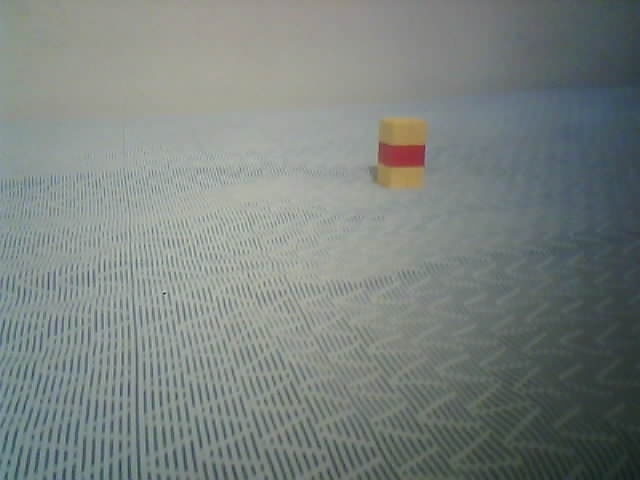lego: (375, 114, 428, 191)
